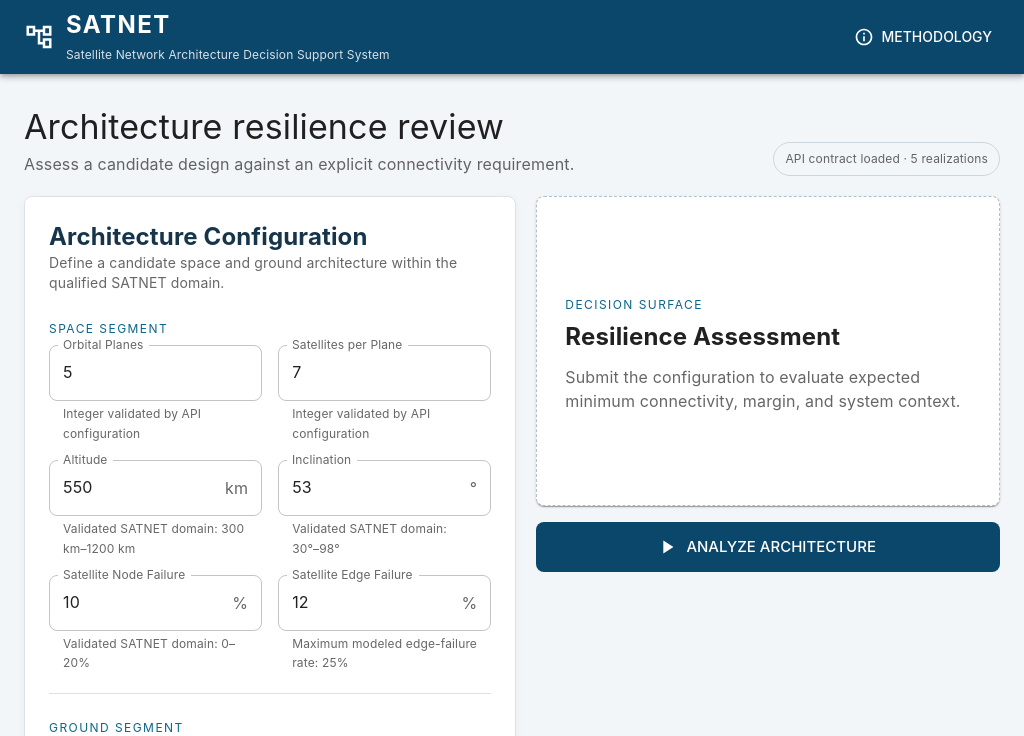
Test: SATNET DSS UI › renders a blocked system context without inventing values
Click the button with test id "analyze-button". click: point(768, 547)
box: [536,522,1000,572]
(page scrolled)
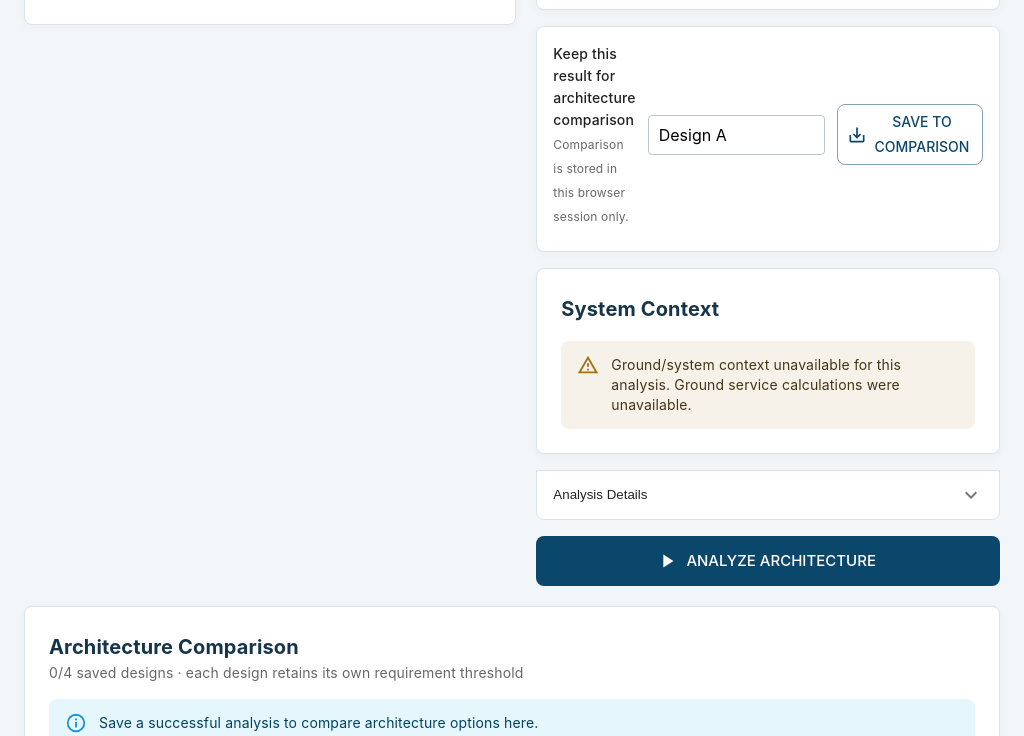
Now the text "Ground/system context unavailable for this analysis. Ground service calculations were unavailable." is shown, box [611,356,901,412]
